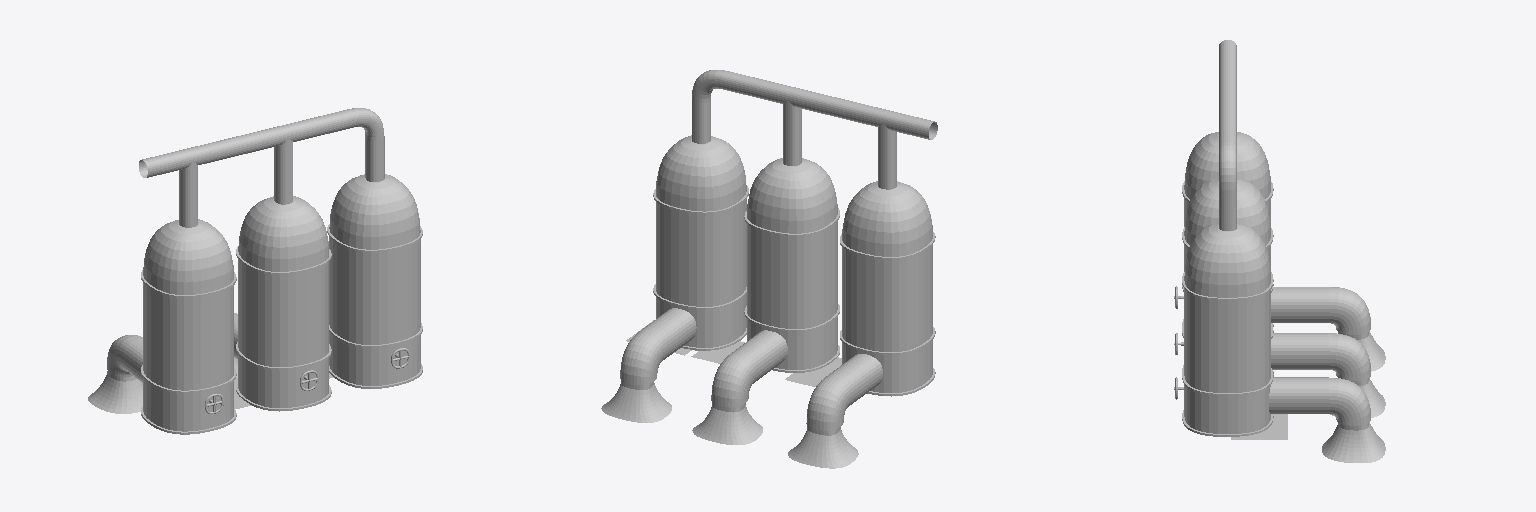
Rendered from toxic-tanks.obj.
The picture shows the model from 3 angles: view 1: azimuth 30°, elevation 25°; view 2: azimuth 150°, elevation 25°; view 3: azimuth 270°, elevation 25°; orthographic projection.
Visible parts, largest first — view 1: entity0_patch12, entity0_patch13, entity0_patch66, entity0_patch73, entity0_patch50, entity0_patch61, entity0_patch55, entity0_patch44, entity0_patch67, entity0_patch6, entity0_patch8, entity0_patch9 (+5 smaller); view 2: entity0_patch13, entity0_patch66, entity0_patch12, entity0_patch73, entity0_patch50, entity0_patch61, entity0_patch67, entity0_patch44, entity0_patch55, entity0_patch6, entity0_patch11, entity0_patch5 (+17 smaller); view 3: entity0_patch12, entity0_patch61, entity0_patch55, entity0_patch50, entity0_patch73, entity0_patch11, entity0_patch14, entity0_patch15, entity0_patch16, entity0_patch21, entity0_patch18, entity0_patch17 (+9 smaller).
Part boxes in pixels (x1,y1,x2,y2): entity0_patch12: (329,237,420,344); entity0_patch13: (238,259,328,366); entity0_patch66: (143,283,233,390); entity0_patch73: (238,196,328,271); entity0_patch50: (143,219,233,294); entity0_patch61: (329,174,420,249); entity0_patch55: (329,332,420,385); entity0_patch44: (143,378,233,431); entity0_patch67: (238,355,328,407); entity0_patch6: (88,371,142,413); entity0_patch8: (139,143,216,177); entity0_patch9: (212,126,285,160); entity0_patch13: (747,221,837,328); entity0_patch66: (842,245,932,351); entity0_patch12: (656,199,746,306); entity0_patch73: (747,158,837,233); entity0_patch50: (842,181,932,256); entity0_patch61: (656,135,746,211); entity0_patch67: (747,317,837,369); entity0_patch44: (842,340,932,392); entity0_patch55: (656,294,746,347); entity0_patch6: (788,426,858,468); entity0_patch11: (601,381,671,422); entity0_patch5: (692,403,762,444); entity0_patch12: (1184,289,1270,392); entity0_patch61: (1184,222,1270,297); entity0_patch55: (1184,385,1270,433); entity0_patch50: (1184,132,1270,199); entity0_patch73: (1184,178,1270,245); entity0_patch11: (1322,422,1385,462); entity0_patch14: (1271,333,1328,369); entity0_patch15: (1271,287,1328,322); entity0_patch16: (1269,377,1328,413); entity0_patch21: (1329,287,1370,334); entity0_patch18: (1329,378,1370,425); entity0_patch17: (1329,333,1370,380).
Bounding box in the file's own units: 561 × 572 × 370.